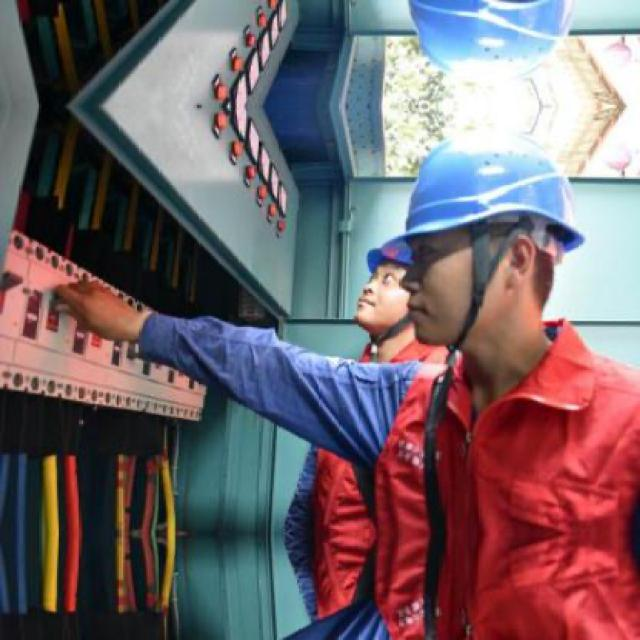con casco: (385, 149, 599, 372), (351, 238, 478, 328)
